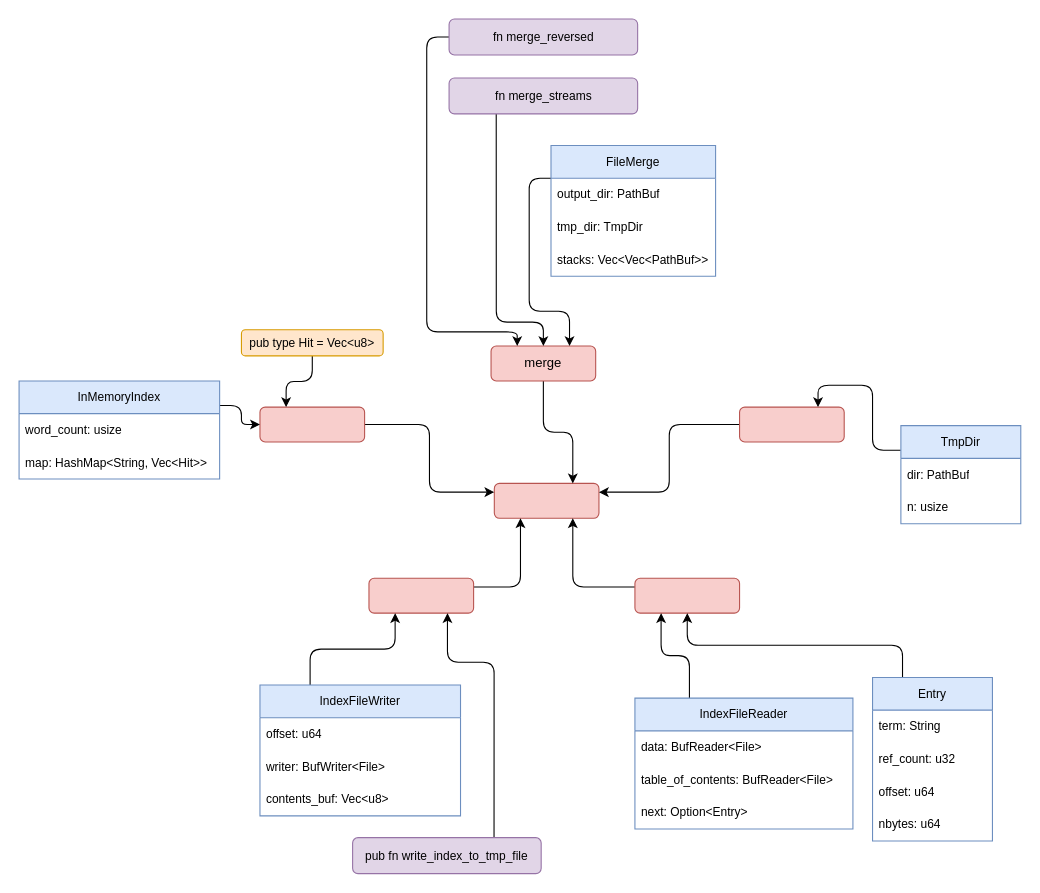
This 1040x893 diagram has some shape labels left out. Each missing label, with the centre of its shape:
"index" goes at pixel 312 424.
"lib" goes at pixel 546 500.
"read" goes at pixel 687 595.
"tmp" goes at pixel 791 424.
"write" goes at pixel 421 595.
